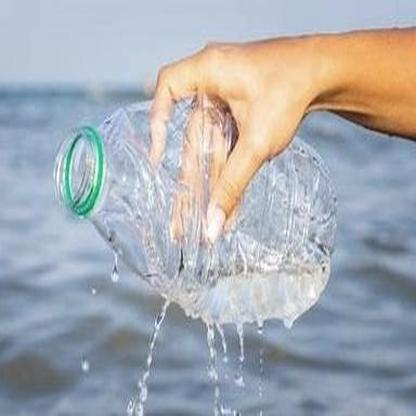plastic bottle: (53, 94, 335, 323)
